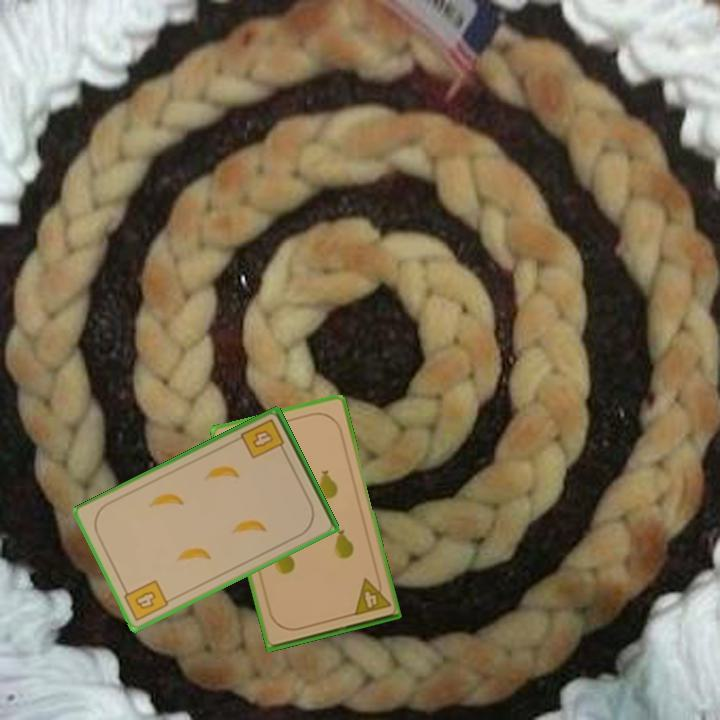4b: (119, 576, 171, 624), (237, 416, 289, 462)
4p: (350, 572, 394, 618)
